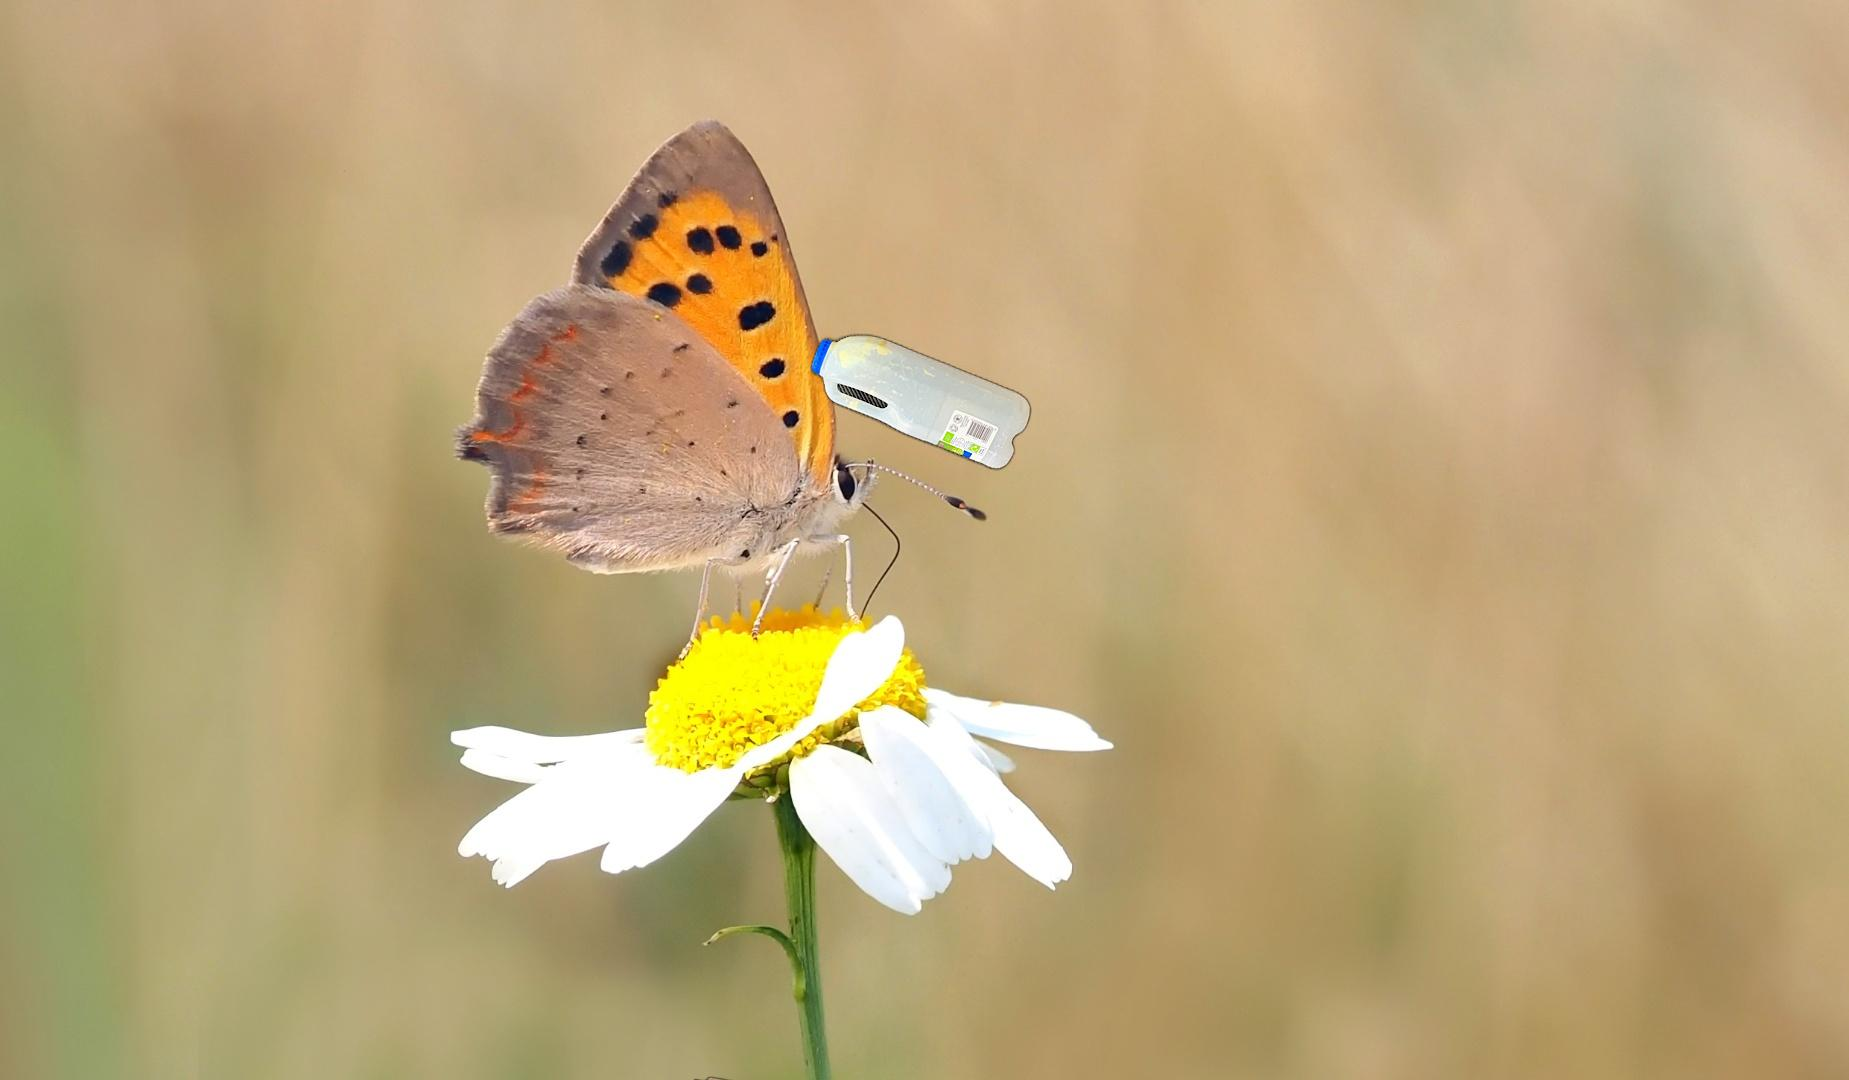paper-bag: (676, 1075, 888, 1080)
plastic-bottles: (806, 330, 1035, 742)
